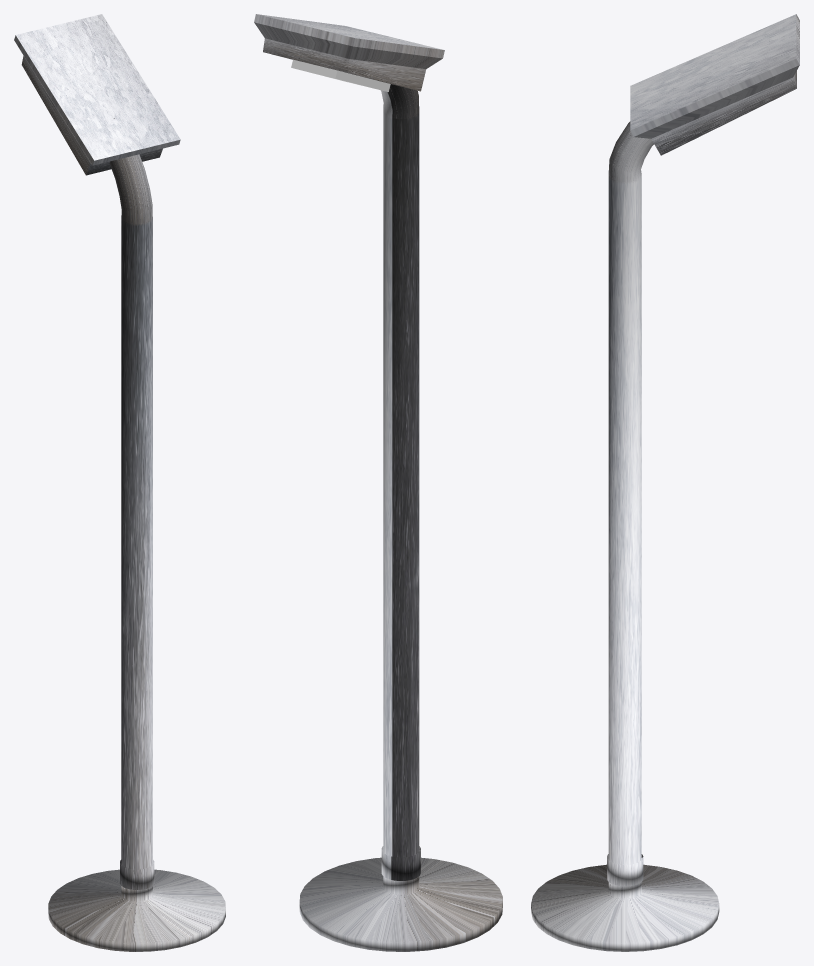
File: Streetlamp2.fbx
The picture shows the model from 3 angles, left to right: view 1: azimuth 30°, elevation 25°; view 2: azimuth 150°, elevation 25°; view 3: azimuth 270°, elevation 25°; orthographic projection. The views are drawn at different scales.
Parts seen in each view (by area): view 1: Streetlamp2; view 2: Streetlamp2; view 3: Streetlamp2.
Boxes of the visible parts, x1,y1,x2,y2 form: Streetlamp2: [14, 14, 225, 951]; Streetlamp2: [254, 14, 502, 951]; Streetlamp2: [531, 14, 799, 951].
Size of the model in its own units: 117 by 601 by 167.
2 materials, 1 textured.
